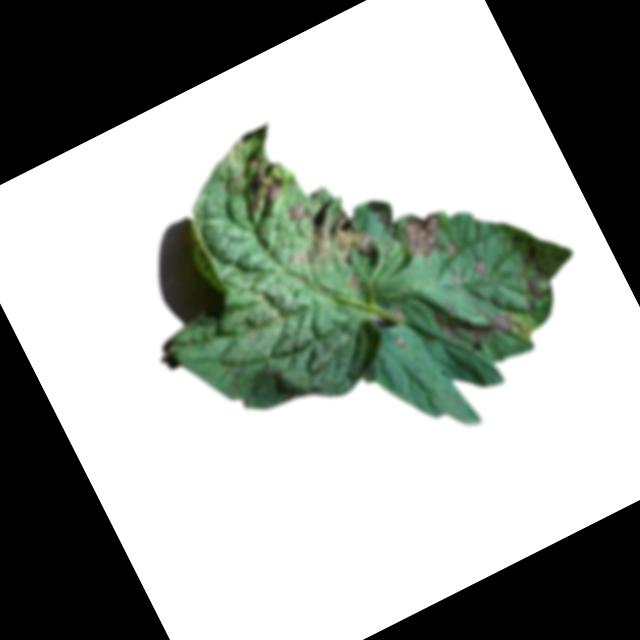Early_blight: (274, 191, 380, 288), (426, 273, 526, 367), (226, 142, 288, 213), (391, 201, 452, 263), (513, 272, 549, 312), (468, 252, 492, 279), (284, 201, 305, 223)
